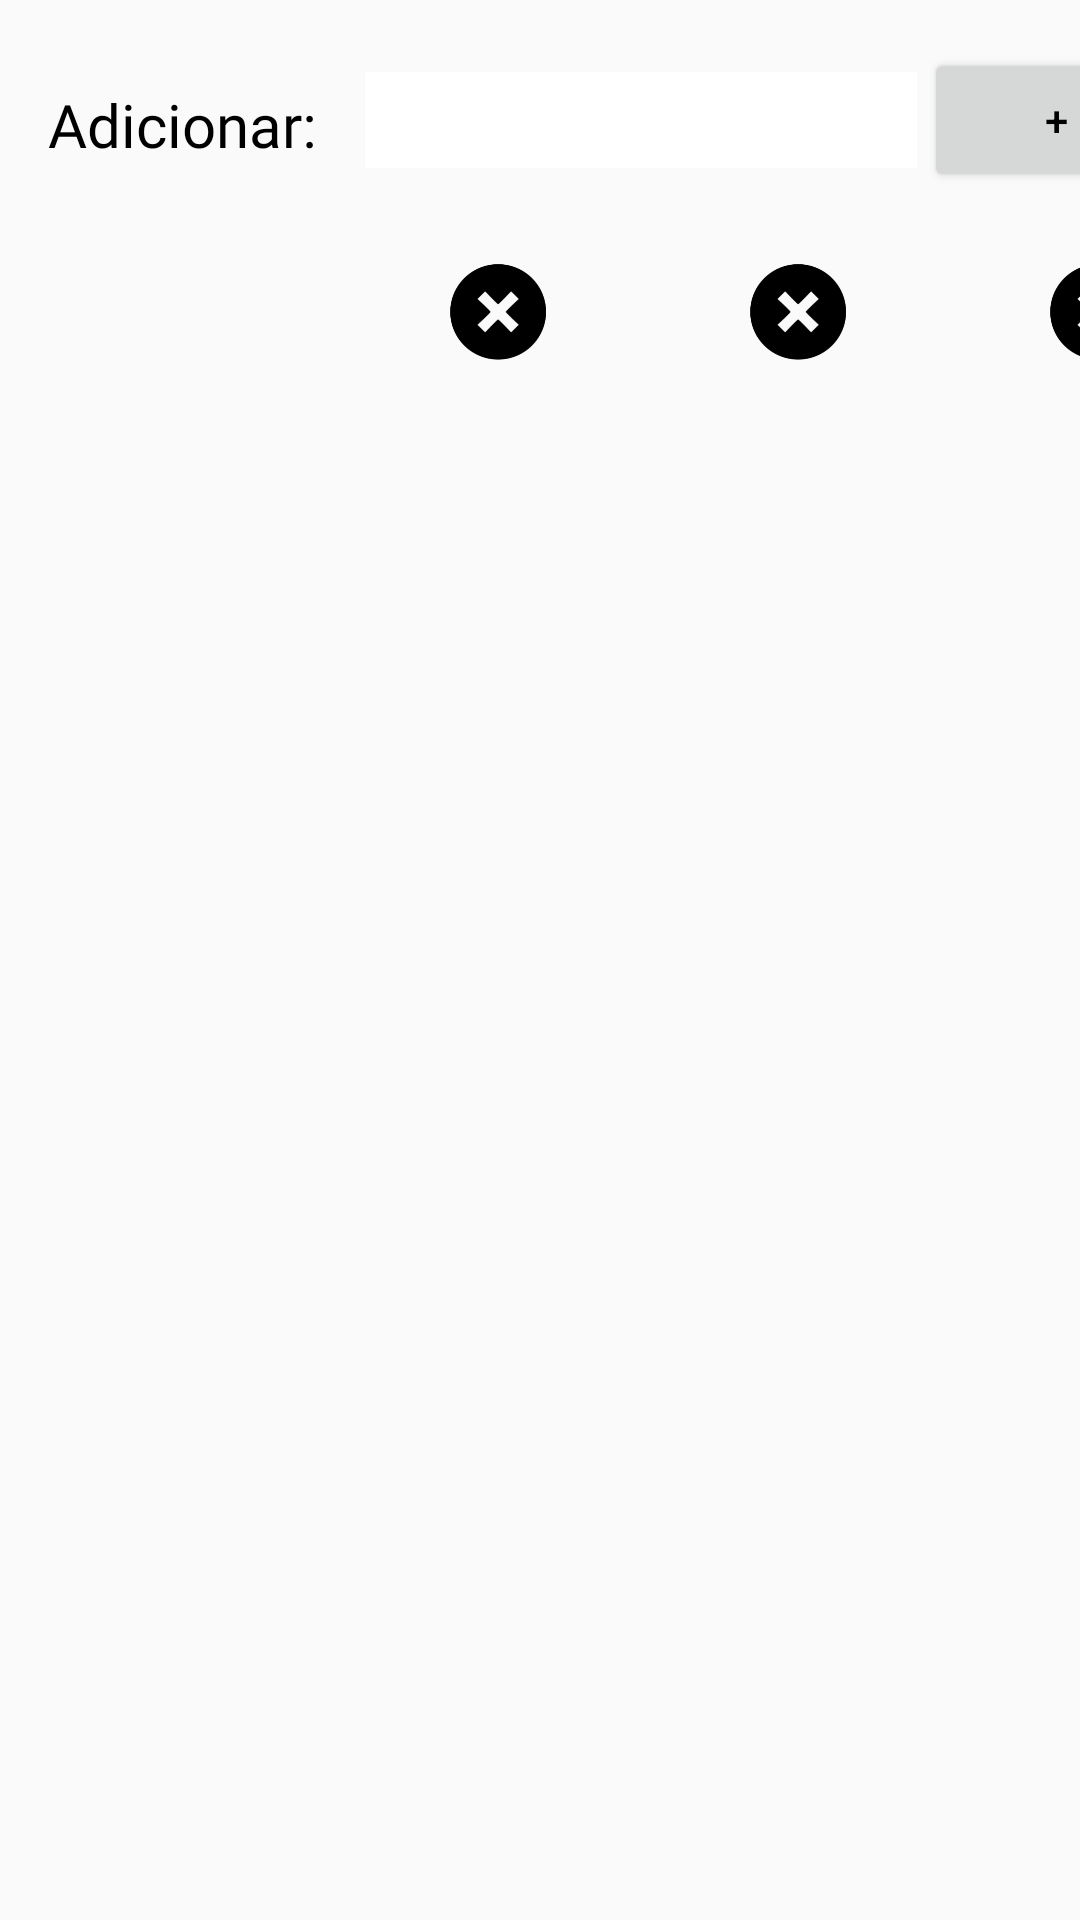

Point at icon controls on the screen. Image size 1080*1920, points as (x,y).
remover1: (498,312)
remover2: (798,312)
